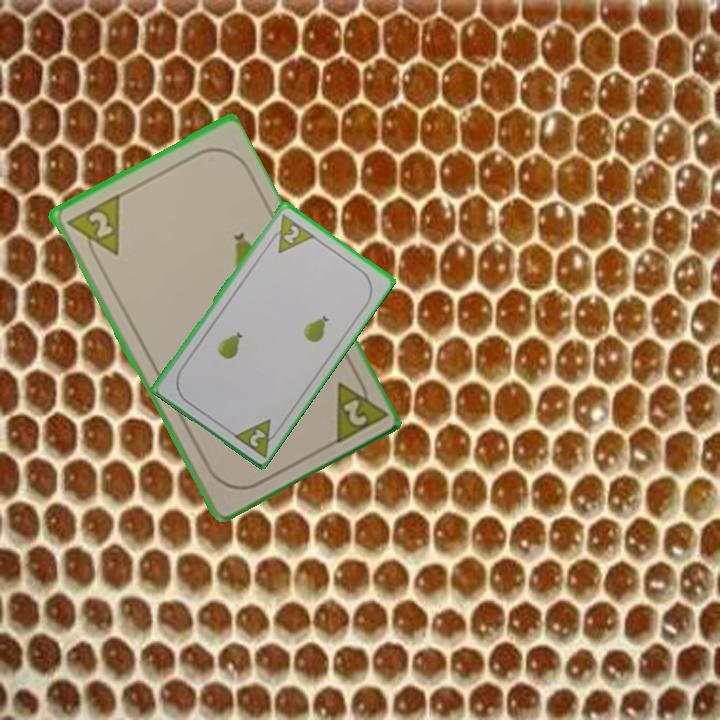2p: (327, 368, 388, 448), (62, 191, 123, 267), (228, 414, 283, 459), (264, 210, 317, 256)
